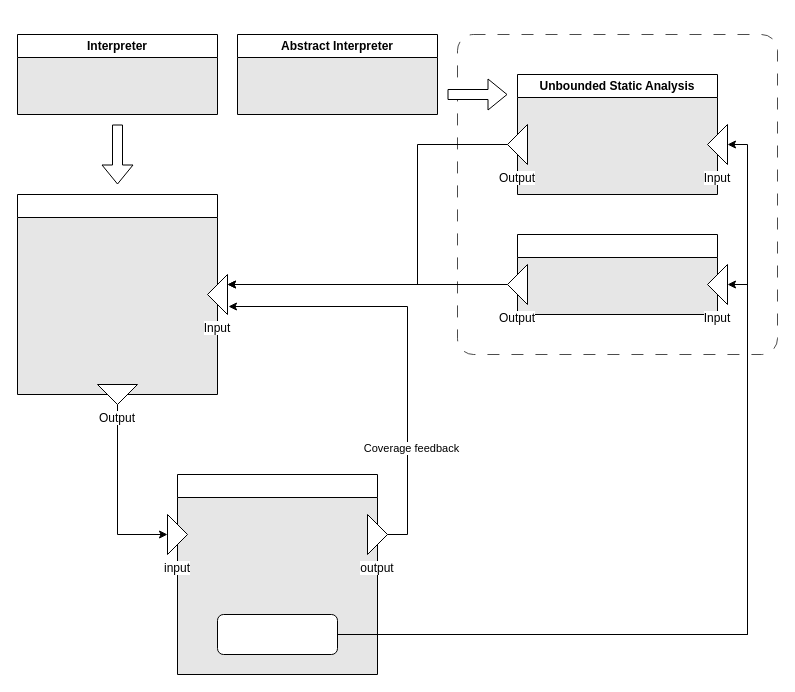
Image size: 795x692. Some labels were removed from this diagram. Here are the shapes that lost their labels. From the top down, the box of each, then its label:
(456, 34, 778, 354): Pool of Information Providers
(16, 194, 218, 394): Fuzzer
(516, 234, 718, 314): Syntactic Analysis
(176, 474, 378, 674): Program to be analysed
(216, 614, 338, 654): Opcode
